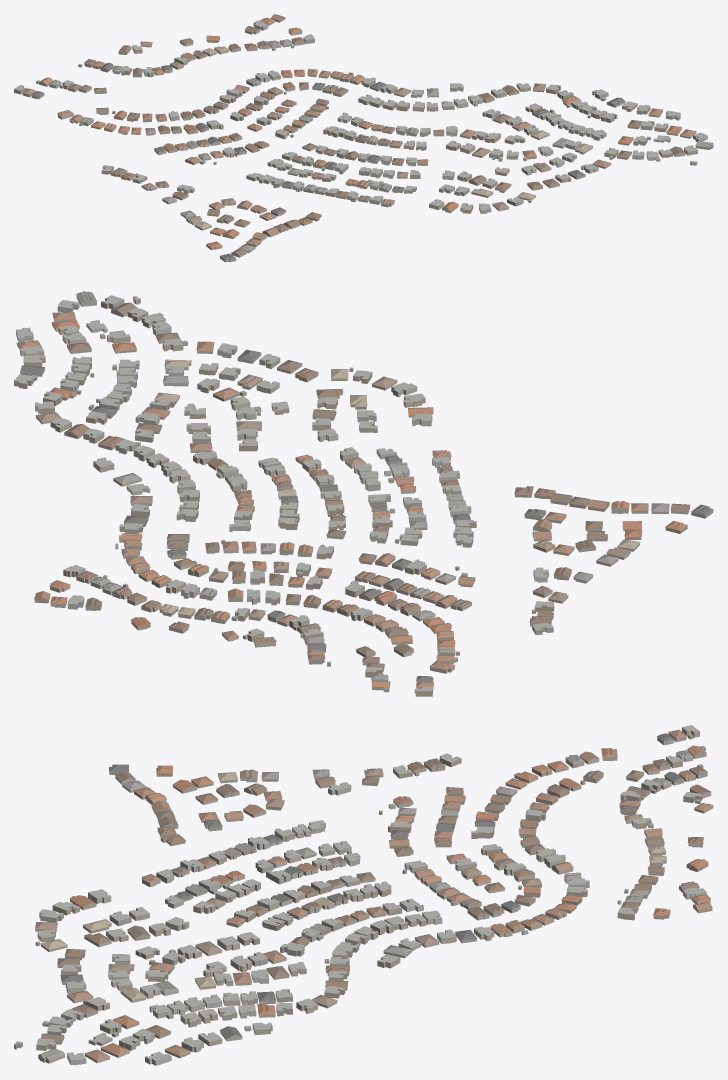
The model's file is buildings_r5_c5.glb.
3 renders of one model, top to bottom at view 1: azimuth 30°, elevation 25°; view 2: azimuth 150°, elevation 25°; view 3: azimuth 270°, elevation 25°, orthographic. The views are drawn at different scales.
Visible parts, largest first — view 1: buildings_r5_c5; view 2: buildings_r5_c5; view 3: buildings_r5_c5.
Part boxes in pixels (x1,y1,x2,y2): buildings_r5_c5: (14,14,713,262); buildings_r5_c5: (14,291,713,696); buildings_r5_c5: (14,725,713,1065).
Size of the model in its own units: 876 by 65.86 by 780.
